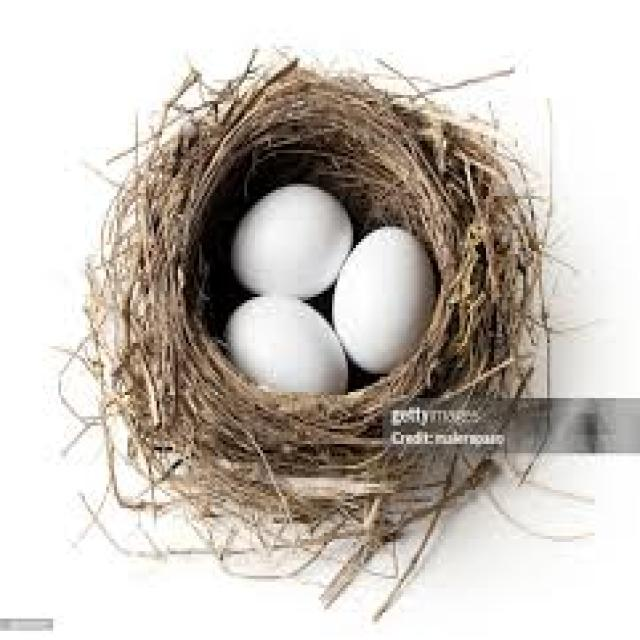White Egg: (323, 220, 453, 371), (212, 276, 327, 392), (234, 182, 345, 293)
